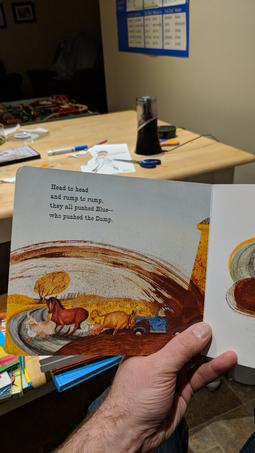text block: (43, 177, 117, 227)
